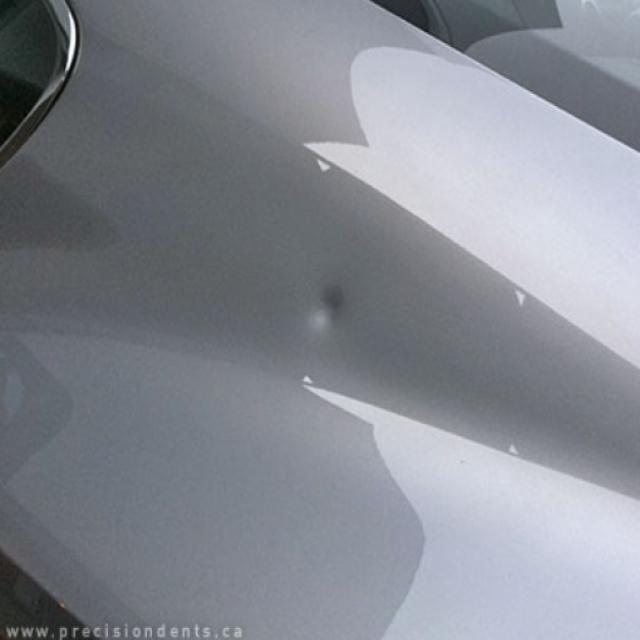dents: (278, 280, 386, 356)
